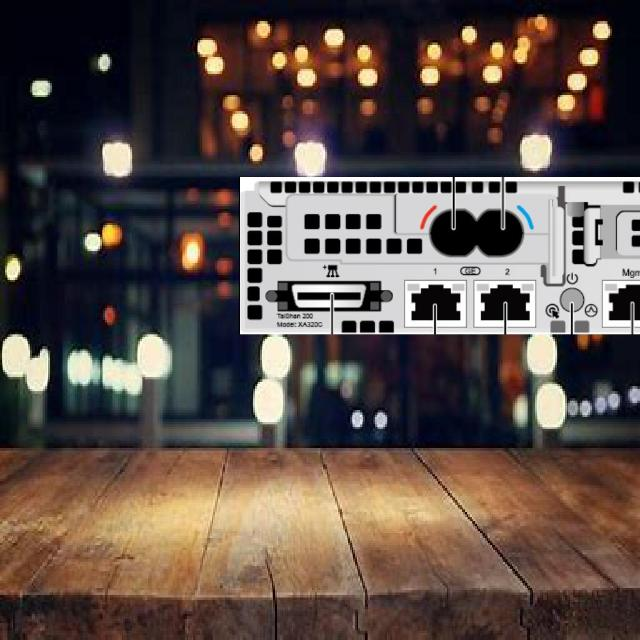Server: (238, 176, 640, 334)
